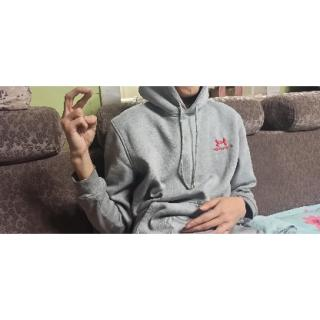ZAY: (57, 84, 102, 162)
